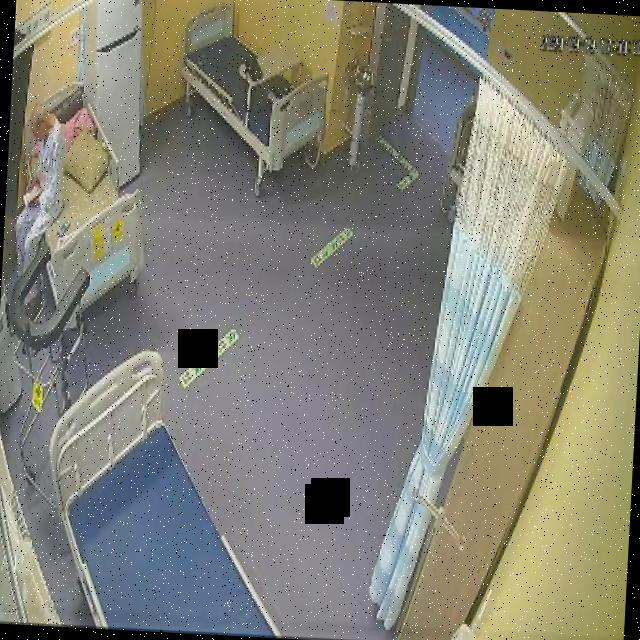bed: (41, 345, 296, 636), (14, 80, 155, 316), (174, 0, 333, 174)
patient: (14, 100, 68, 274)
sit: (13, 99, 68, 274)
walker: (0, 232, 97, 507)
